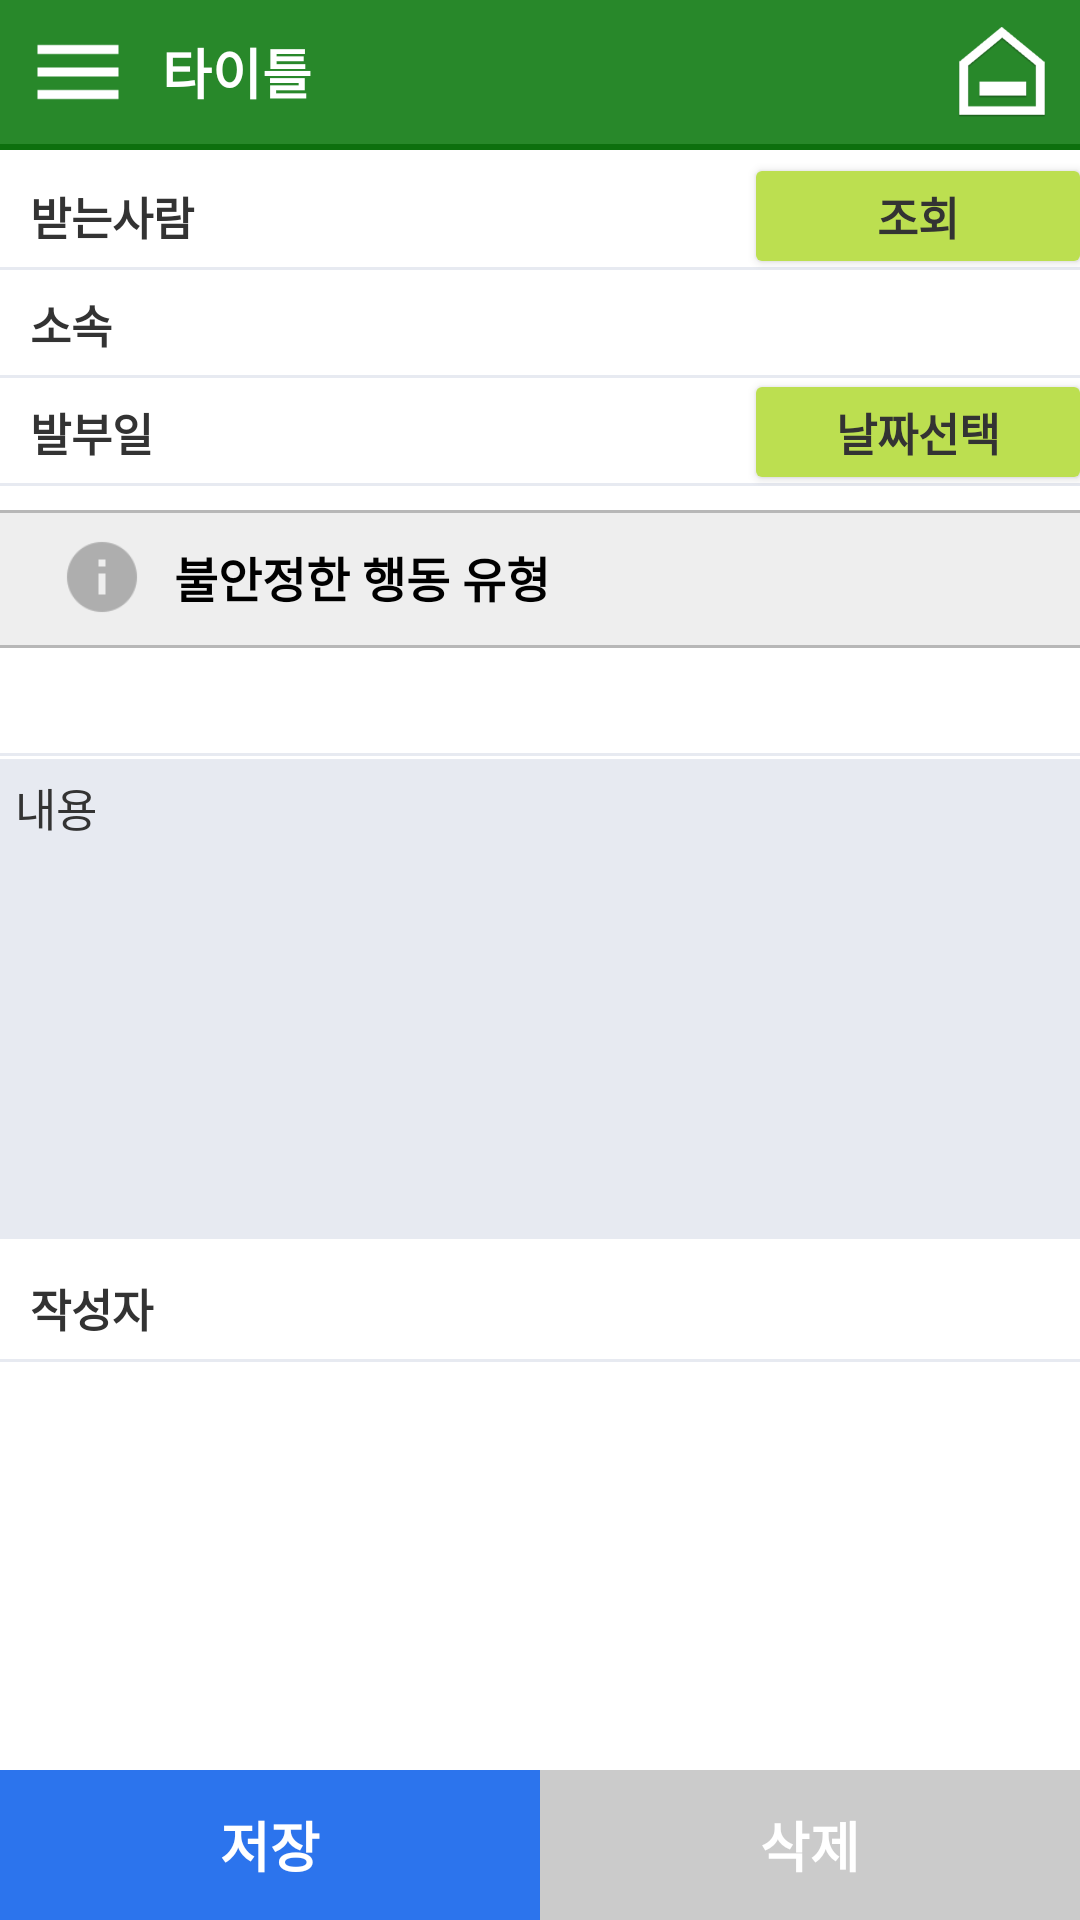

Point at icon controls on the screen. Image size 1080 × 1920, points as [x,y].
info: [102,577]
menu: [78,72]
top home: [1002,71]
